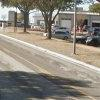Car: (51, 26, 71, 44)
